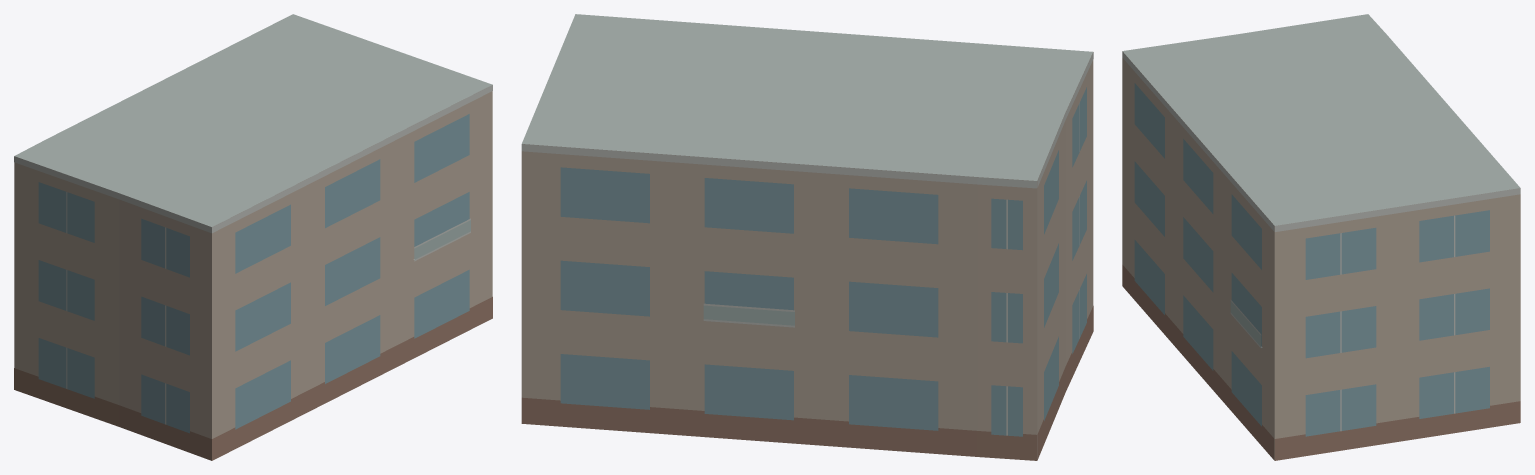
Rendered from survey-upis-32702954.glb.
3 renders of one model, left to right at view 1: azimuth 30°, elevation 25°; view 2: azimuth 150°, elevation 25°; view 3: azimuth 270°, elevation 25°, orthographic. The views are drawn at different scales.
Parts seen in each view (by area): view 1: survey-upis-32702954.tmp; view 2: survey-upis-32702954.tmp; view 3: survey-upis-32702954.tmp.
Boxes of the visible parts, <box> form: survey-upis-32702954.tmp: <box>14,14,492,460</box>; survey-upis-32702954.tmp: <box>521,14,1093,460</box>; survey-upis-32702954.tmp: <box>1122,14,1520,460</box>.
Size of the model in its own units: 17.71 by 9.15 by 14.07.
